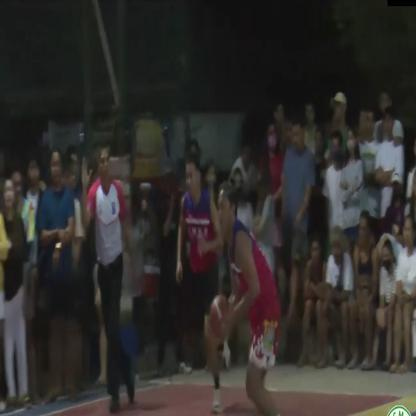basketball: (210, 295, 233, 347)
